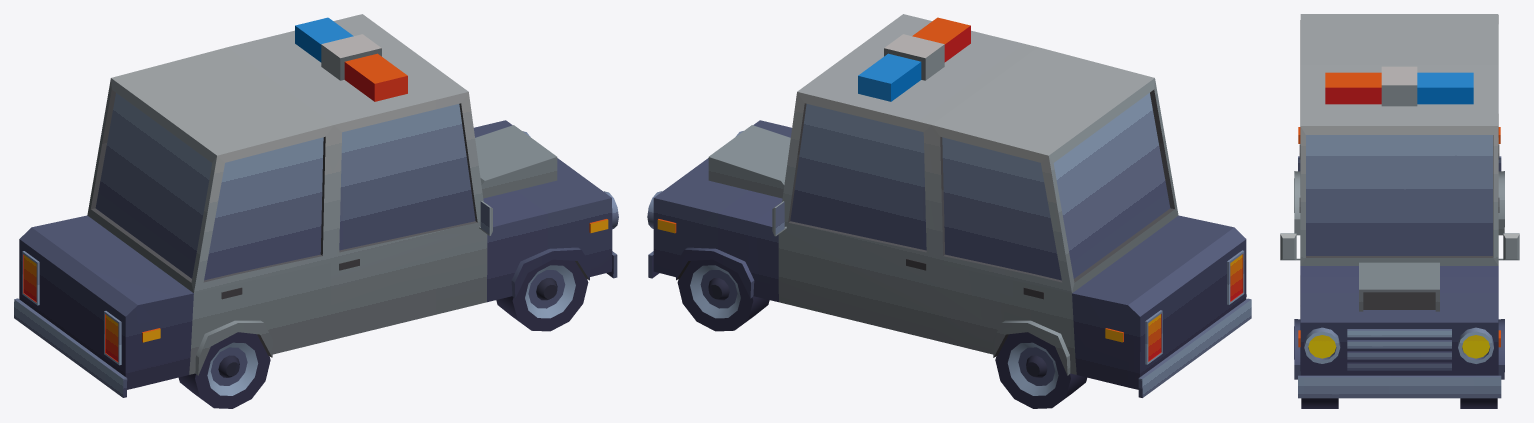
File: Police_Car.glb
3 renders of one model, left to right at view 1: azimuth 30°, elevation 25°; view 2: azimuth 150°, elevation 25°; view 3: azimuth 270°, elevation 25°, orthographic. The views are drawn at different scales.
Parts seen in each view (by area): view 1: Hood; view 2: Hood; view 3: Hood.
Boxes of the visible parts, <box> form: Hood: <box>14,14,618,408</box>; Hood: <box>647,14,1251,408</box>; Hood: <box>1280,14,1519,408</box>.
Size of the model in its own units: 6.9 by 3.73 by 3.08.
1 material, 1 textured.
